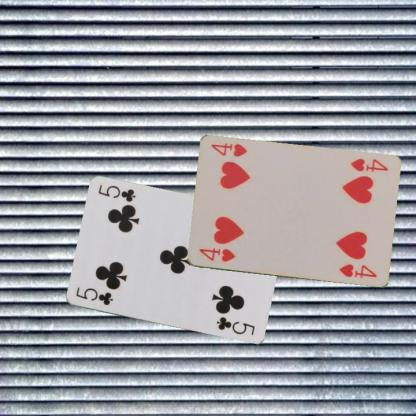4h: (196, 245, 237, 264), (348, 156, 389, 173)
5c: (73, 284, 114, 307)
